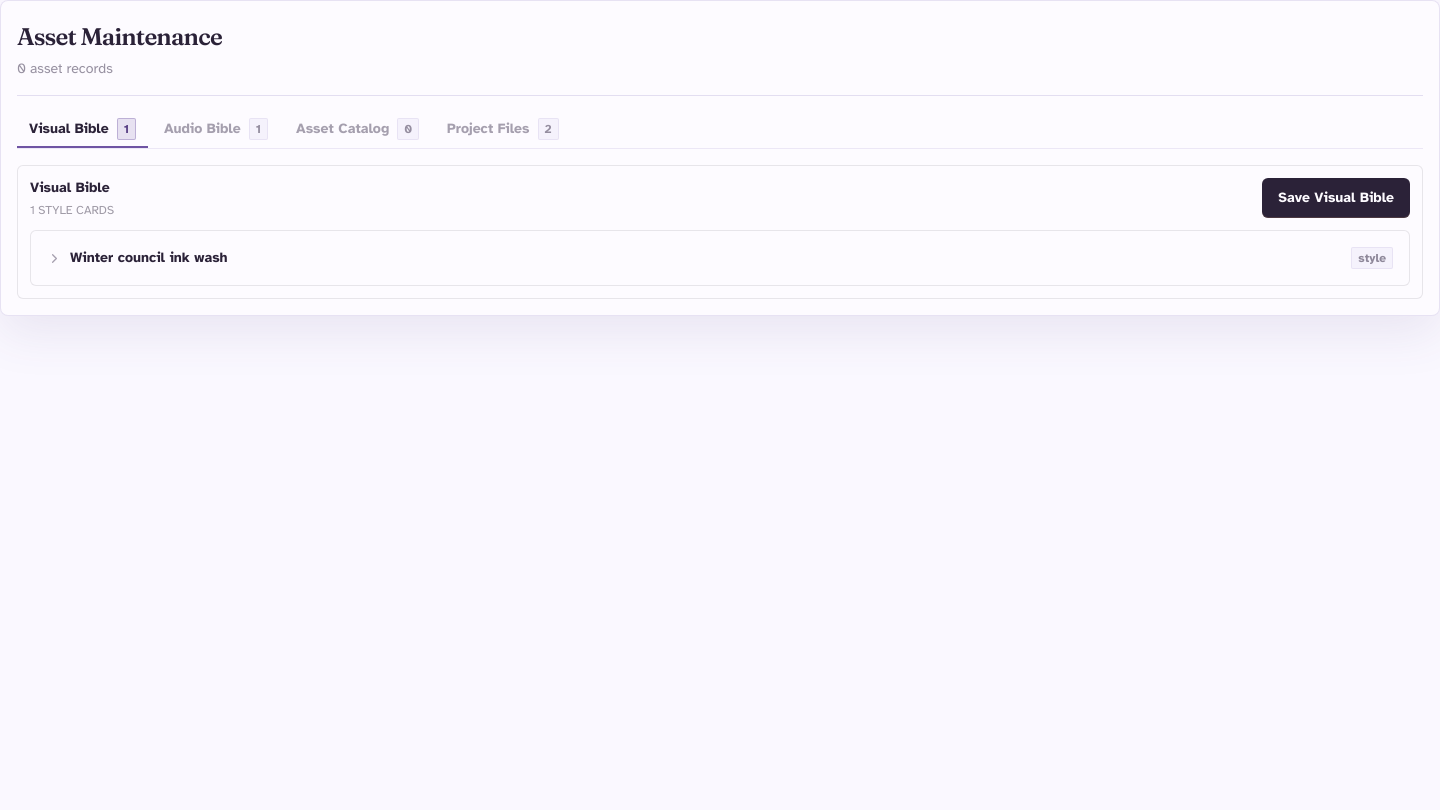
Test: AssetMaintenanceView › expands Visual Bible card and shows editable prompt field
Click the button "Winter council ink wash style" at (149, 258), box [43,243,1397,273]
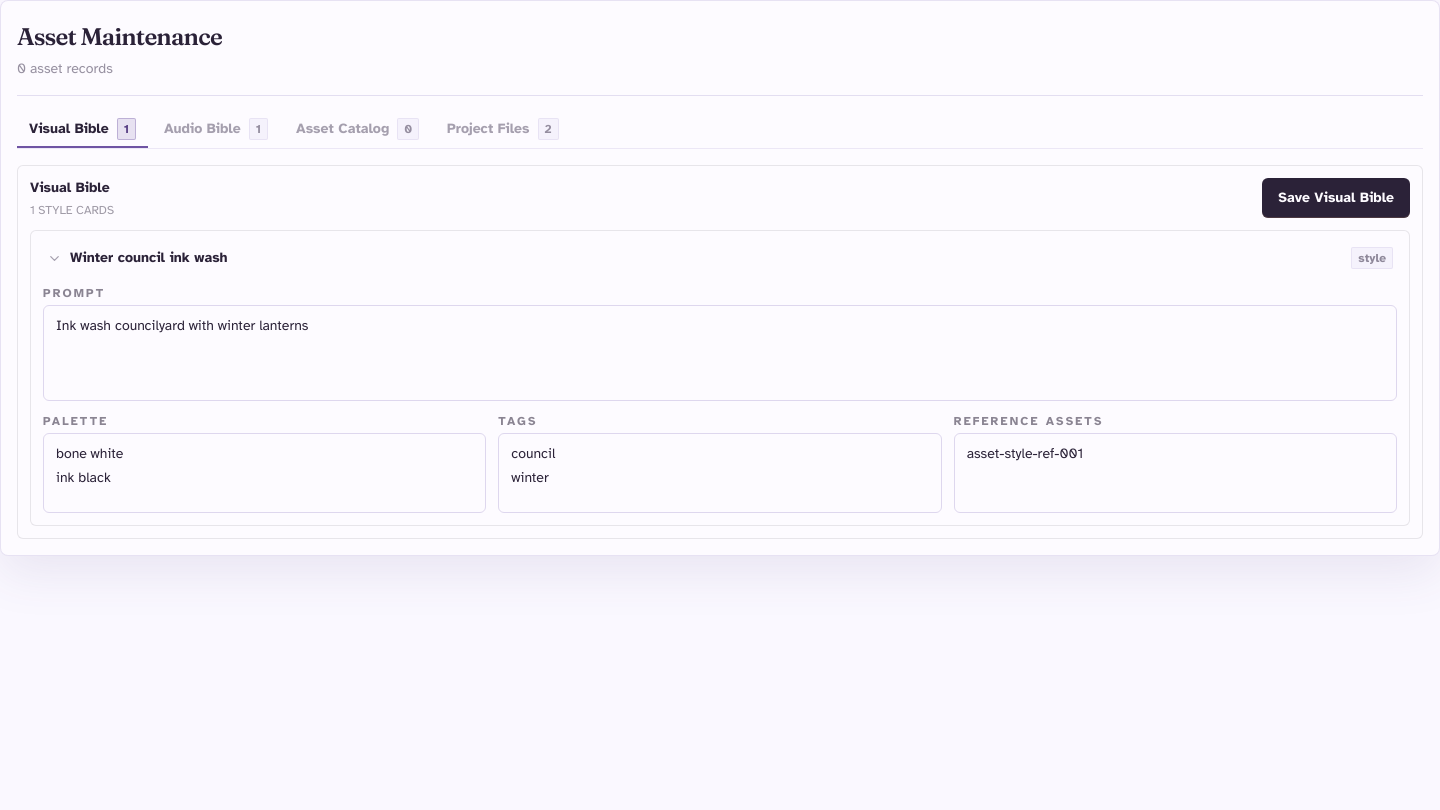
Check: the text box named "Visual style prompt 1" holds "Ink wash councilyard with winter lanterns", box [43,305,1397,401]
